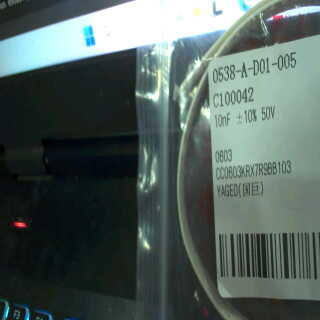10nF: (213, 110, 232, 129)
